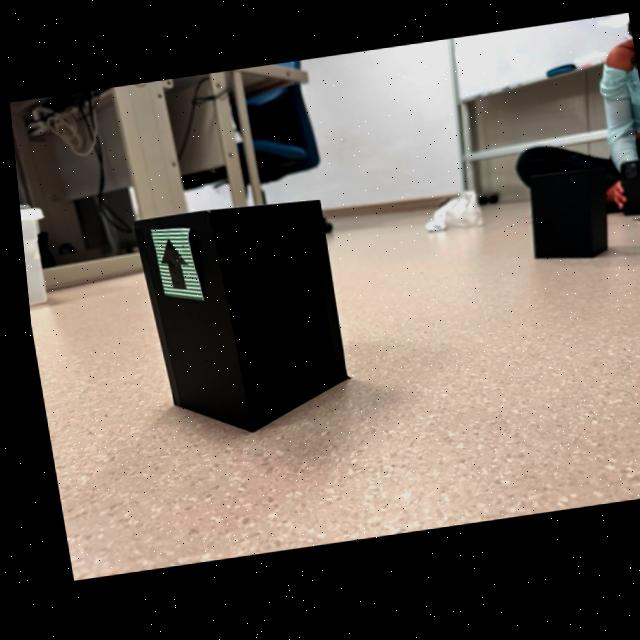UP: (156, 241, 181, 292)
